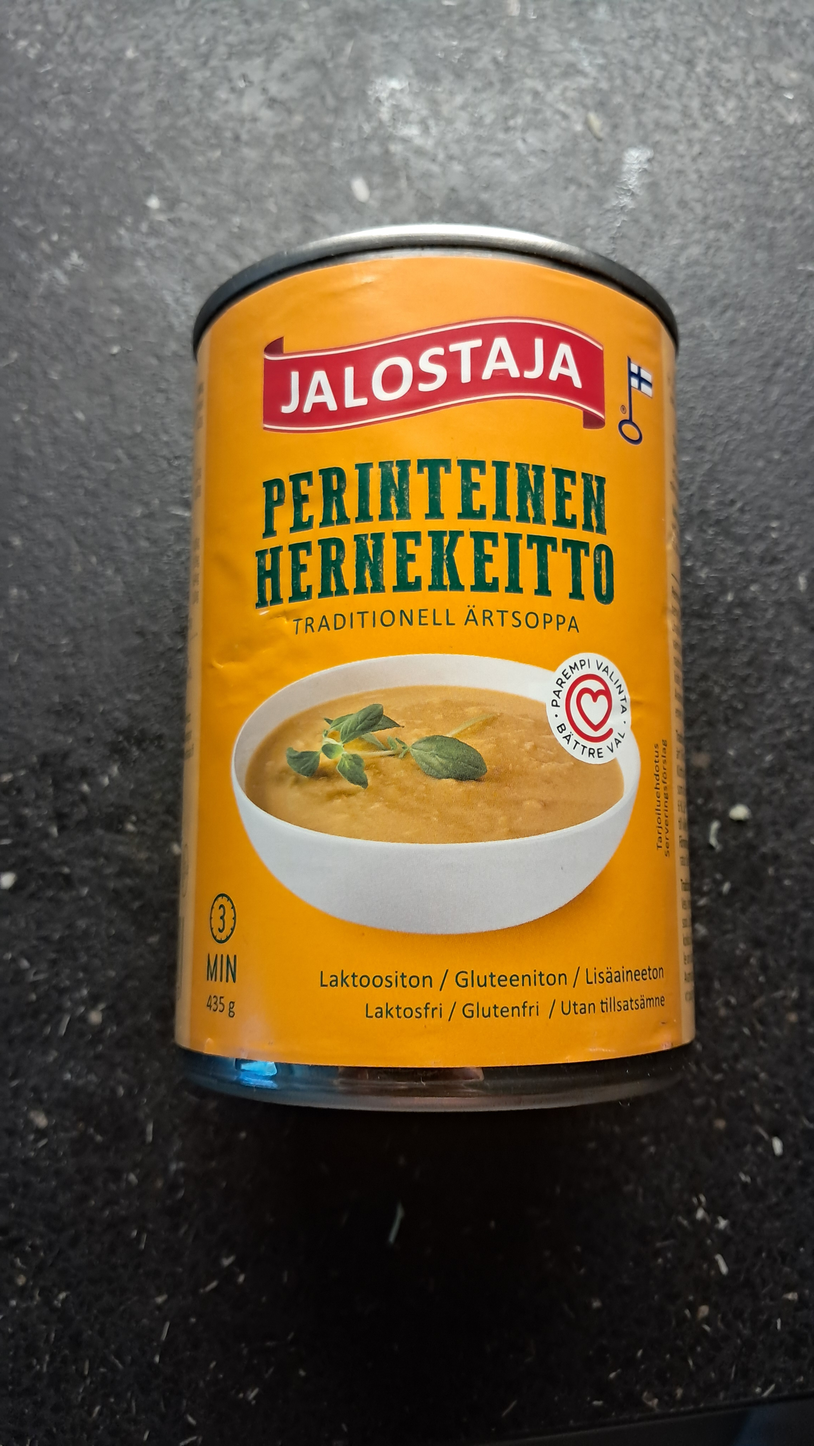Konservburk: (169, 216, 700, 1122)
